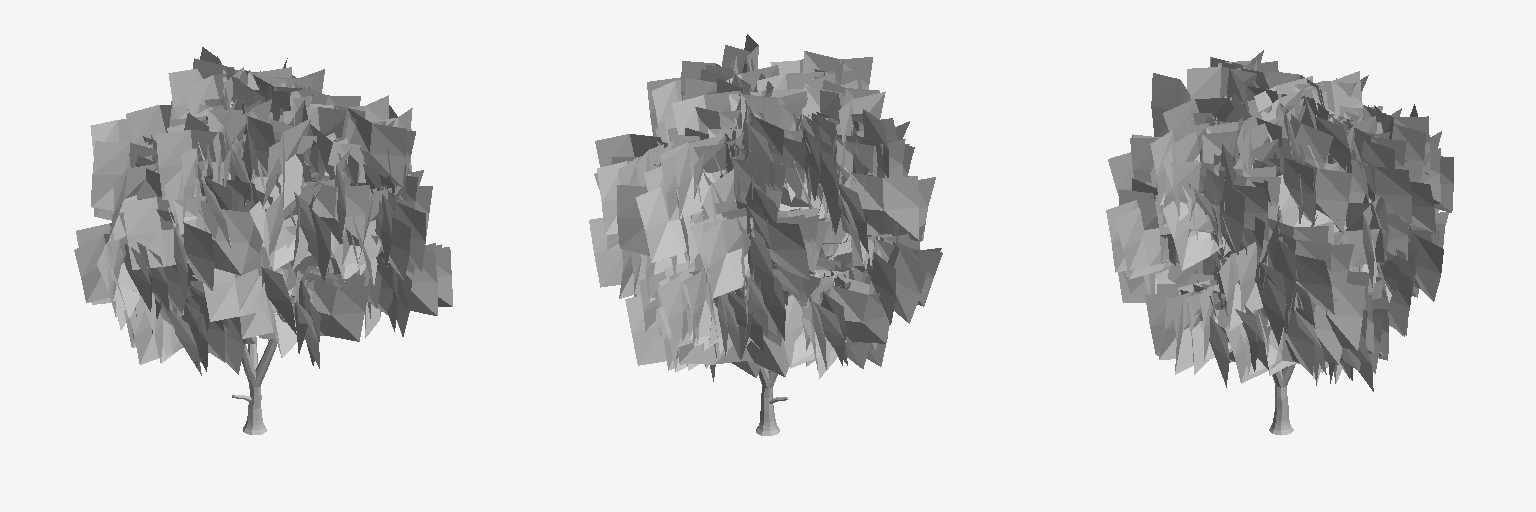
Rendered from tree_2.obj.
3 views of the same model, side by side, from view 1: azimuth 30°, elevation 25°; view 2: azimuth 150°, elevation 25°; view 3: azimuth 270°, elevation 25° (orthographic).
Parts seen in each view (by area): view 1: Plane.303, Plane.517, Plane.173, Plane.453, Plane.302, Plane.489, Plane.495, Plane.095, tree, Plane.145, Plane.531, Plane.298 (+28 smaller); view 2: Plane.490, Plane.335, Plane.295, Plane.472, Plane.331, Plane.368, Plane.531, Plane.294, Plane.236, Plane.369, Plane.396, Plane.041 (+28 smaller); view 3: Plane.343, Plane.040, Plane.189, Plane.221, Plane.042, Plane.225, Plane.076, Plane.215, Plane.145, Plane.311, Plane.079, Plane.291 (+28 smaller).
Boxes of the visible parts, box(x1,y1,x2,y2) form: Plane.303: box(122, 197, 188, 269); Plane.517: box(295, 274, 370, 341); Plane.173: box(341, 107, 406, 186); Plane.453: box(203, 245, 269, 321); Plane.302: box(192, 196, 253, 275); Plane.489: box(91, 141, 157, 210); Plane.495: box(156, 130, 228, 199); Plane.095: box(308, 181, 369, 245); tree: box(232, 263, 299, 434); Plane.145: box(278, 118, 310, 209); Plane.531: box(74, 234, 109, 302); Plane.298: box(183, 221, 214, 290); Plane.490: box(850, 172, 918, 240); Plane.335: box(701, 216, 750, 298); Plane.295: box(636, 186, 686, 262); Plane.472: box(830, 286, 889, 343); Plane.331: box(747, 206, 809, 279); Plane.368: box(673, 134, 724, 219); Plane.531: box(887, 242, 928, 323); Plane.294: box(617, 185, 670, 257); Plane.236: box(625, 296, 666, 365); Plane.369: box(661, 144, 725, 221); Plane.396: box(836, 139, 905, 177); Plane.041: box(589, 218, 622, 287); Plane.343: box(1106, 199, 1160, 272); Plane.040: box(1326, 282, 1365, 350); Plane.189: box(1279, 159, 1351, 232); Plane.221: box(1162, 162, 1235, 229); Plane.042: box(1351, 150, 1411, 224); Plane.225: box(1204, 168, 1268, 241); Plane.076: box(1187, 67, 1256, 99); Plane.215: box(1162, 201, 1222, 270); Plane.145: box(1151, 73, 1190, 136); Plane.311: box(1282, 240, 1334, 314); Plane.079: box(1273, 140, 1315, 223); Plane.291: box(1334, 203, 1386, 267).
Bounding box in the file's own units: 22.95 × 22.31 × 20.17.